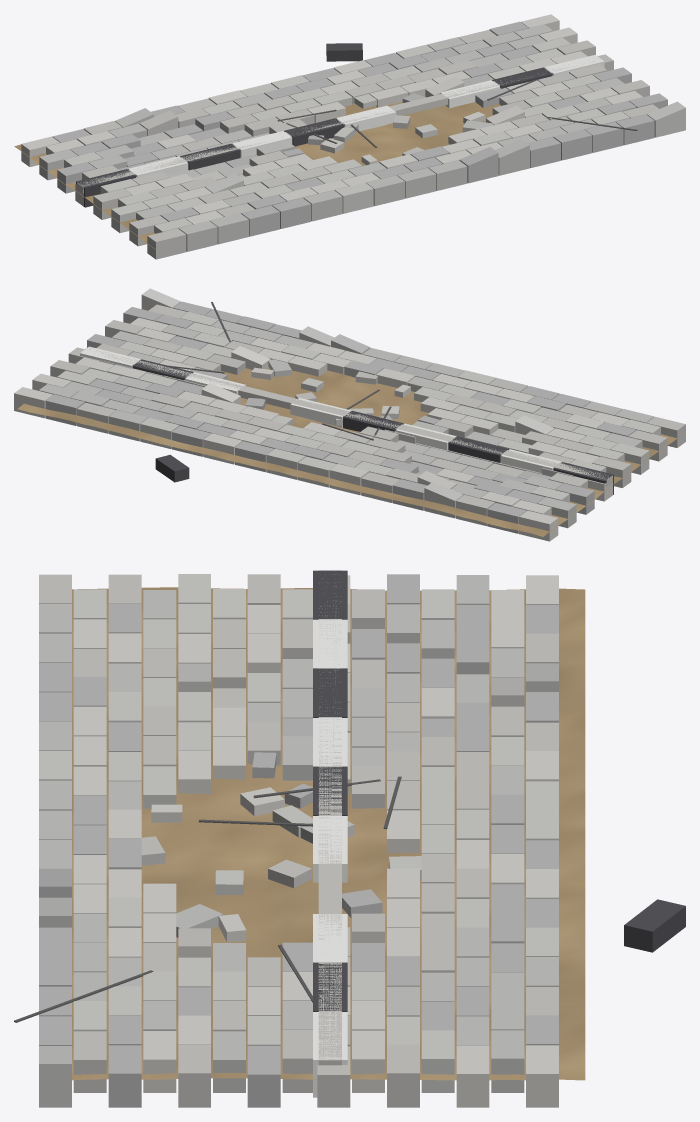
Rendered from sidewalk.glb.
The picture shows the model from 3 angles, top to bottom: view 1: azimuth 30°, elevation 25°; view 2: azimuth 150°, elevation 25°; view 3: azimuth 270°, elevation 25°; orthographic projection. The views are drawn at different scales.
Parts seen in each view (by area): view 1: Dilapidated sidewalk; view 2: Dilapidated sidewalk; view 3: Dilapidated sidewalk.
Boxes of the visible parts, <box> form: Dilapidated sidewalk: <box>14,14,685,259</box>; Dilapidated sidewalk: <box>14,288,685,541</box>; Dilapidated sidewalk: <box>14,570,685,1107</box>.
Size of the model in its own units: 5.1 by 0.213 by 2.9.
